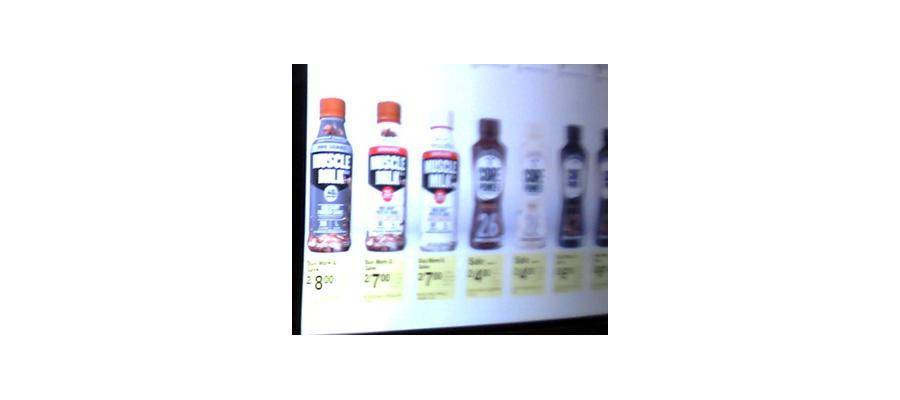bottle: (359, 96, 413, 262), (306, 88, 350, 286), (412, 121, 468, 260), (466, 116, 512, 260)
